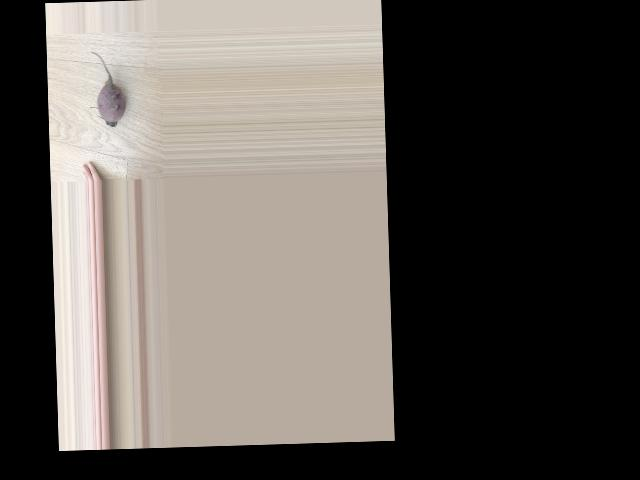beet: (88, 50, 126, 127)
